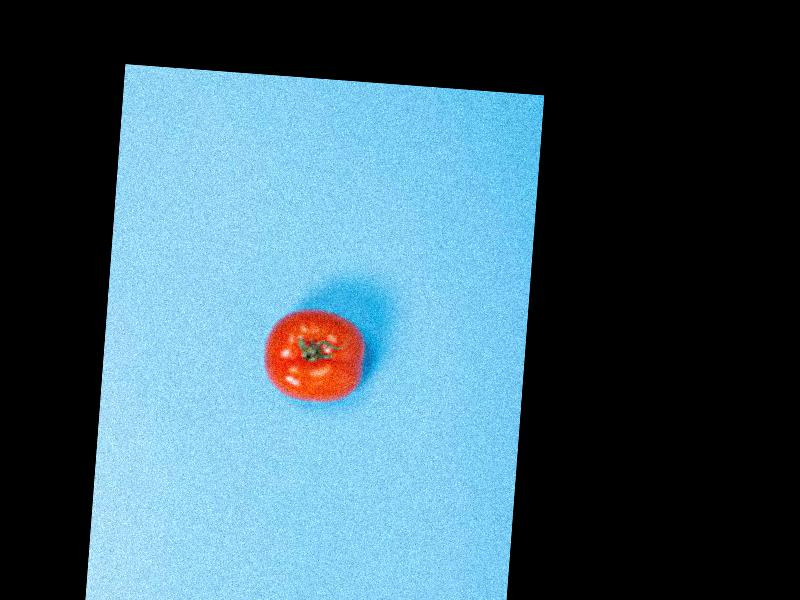Tomato: (259, 303, 367, 403)
